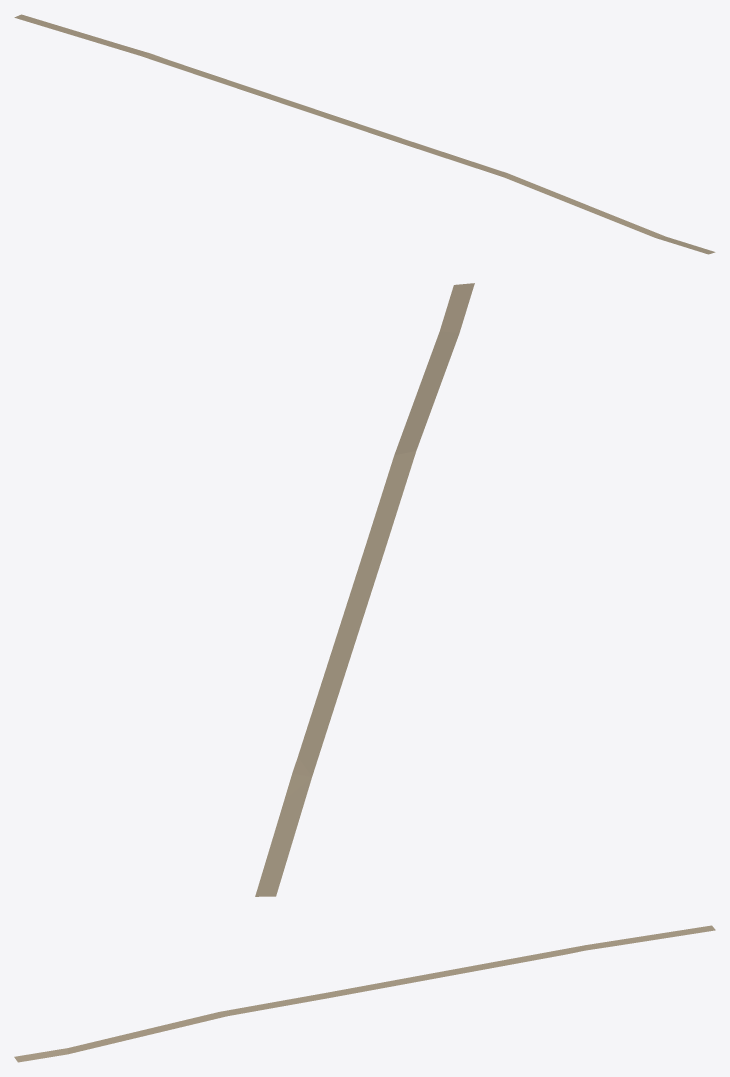
File: farm_-32_-28_track.glb
3 renders of one model, top to bottom at view 1: azimuth 30°, elevation 25°; view 2: azimuth 150°, elevation 25°; view 3: azimuth 270°, elevation 25°, orthographic. The views are drawn at different scales.
Parts seen in each view (by area): view 1: geometry_0; view 2: geometry_0; view 3: geometry_0.
Part boxes in pixels (x1,y1,x2,y2): geometry_0: (14,14,715,254); geometry_0: (255,283,474,896); geometry_0: (14,925,715,1062).
Size of the model in its own units: 92.12 by 4.8 by 217.
